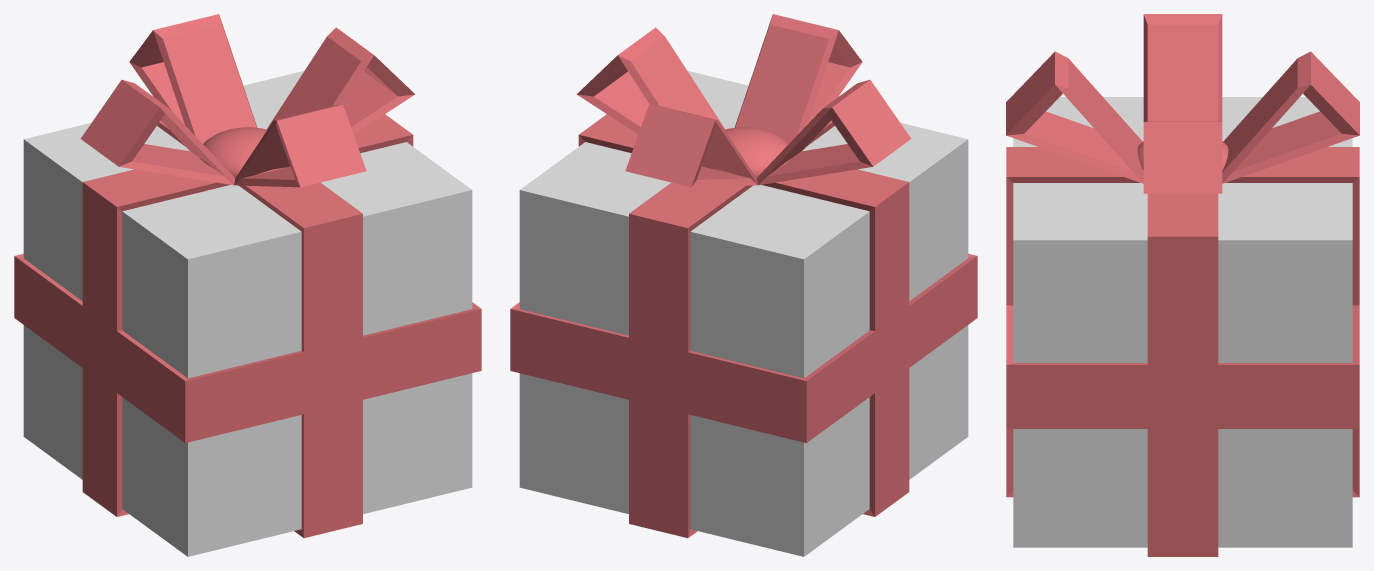
File: gift.fbx
3 views of the same model, side by side, from view 1: azimuth 30°, elevation 25°; view 2: azimuth 150°, elevation 25°; view 3: azimuth 270°, elevation 25° (orthographic). The views are drawn at different scales.
Visible parts, largest first — view 1: polySurface1, polySurface3, polySurface5, polySurface2, polySurface4, pSphere1; view 2: polySurface1, polySurface2, polySurface5, polySurface3, polySurface4, pSphere1; view 3: polySurface1, polySurface2, polySurface3, polySurface5, polySurface4.
Part boxes in pixels (box(x1,y1,x2,y2)): polySurface1: box(14, 71, 481, 556); polySurface3: box(129, 14, 257, 144); polySurface5: box(80, 79, 234, 185); polySurface2: box(234, 104, 366, 187); polySurface4: box(266, 27, 415, 134); pSphere1: box(200, 127, 284, 178); polySurface1: box(510, 71, 977, 556); polySurface2: box(734, 14, 862, 144); polySurface5: box(757, 79, 911, 185); polySurface3: box(625, 104, 757, 187); polySurface4: box(576, 27, 725, 134); pSphere1: box(707, 127, 791, 178); polySurface1: box(1006, 97, 1359, 556); polySurface2: box(1006, 51, 1143, 183); polySurface3: box(1222, 51, 1359, 183); polySurface5: box(1143, 14, 1222, 121); polySurface4: box(1143, 121, 1222, 193).
Size of the model in its own units: 0.345 by 0.4456 by 0.345.
